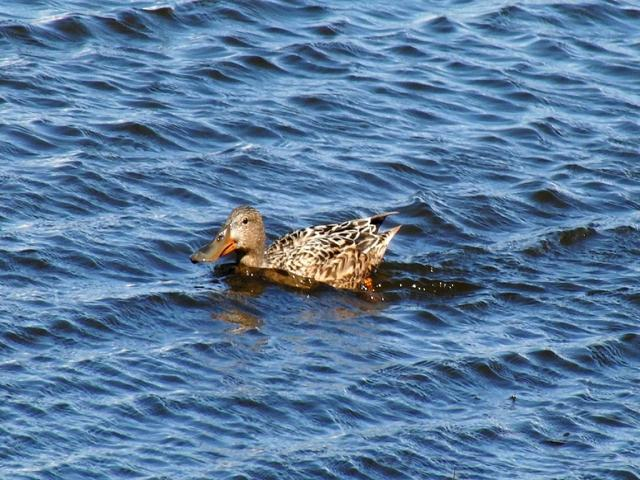Bird: (190, 204, 404, 294)
